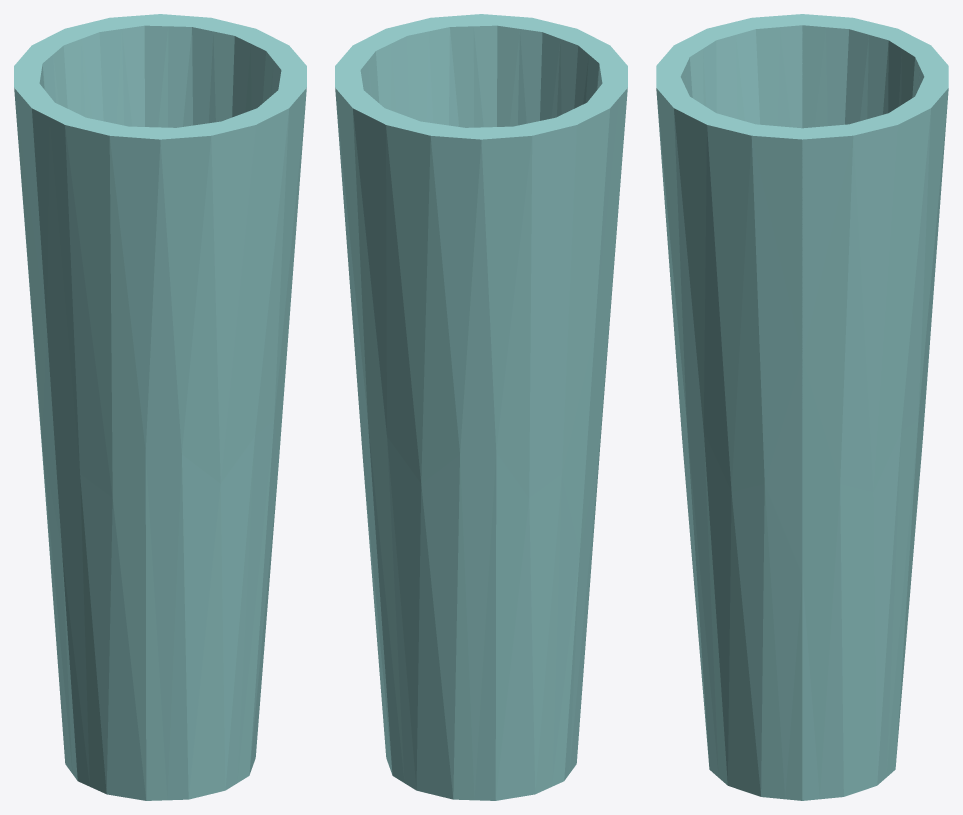
Rendered from 3dExport_FlowerShop_Vase2.glb.
3 views of the same model, side by side, from view 1: azimuth 30°, elevation 25°; view 2: azimuth 150°, elevation 25°; view 3: azimuth 270°, elevation 25° (orthographic).
Parts seen in each view (by area): view 1: Revolution <1222742 Revolve<; view 2: Revolution <1222742 Revolve<; view 3: Revolution <1222742 Revolve<.
Part boxes in pixels (x1,y1,x2,y2): Revolution <1222742 Revolve<: [14, 14, 306, 800]; Revolution <1222742 Revolve<: [335, 14, 627, 800]; Revolution <1222742 Revolve<: [656, 14, 948, 800].
Size of the model in its own units: 0.5833 by 1.48 by 0.5744.
